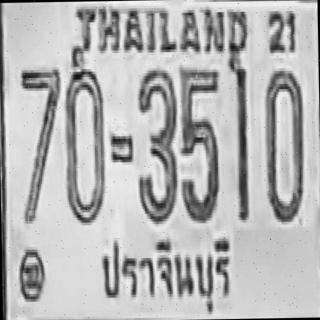N00: (63, 65, 106, 224), (264, 68, 305, 222)
N01: (233, 65, 249, 221)
N03: (136, 66, 178, 223)
N05: (178, 66, 221, 222)
N07: (19, 67, 62, 223)
P49: (91, 228, 235, 317)
